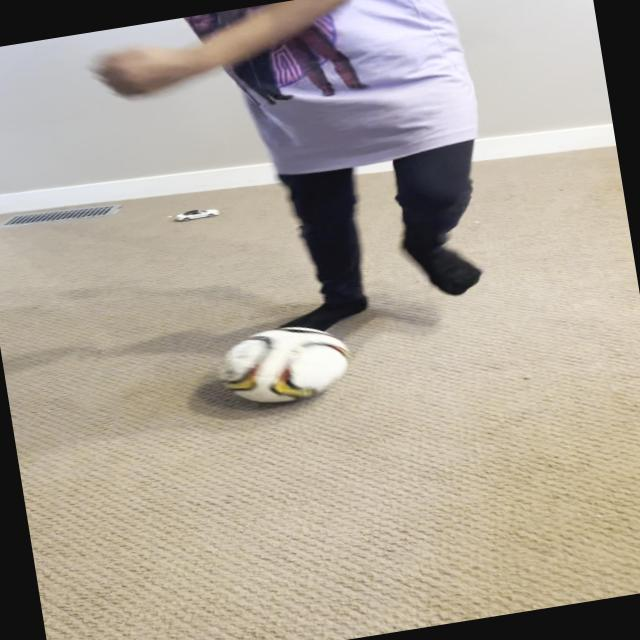Soccer Ball: (211, 317, 356, 412)
